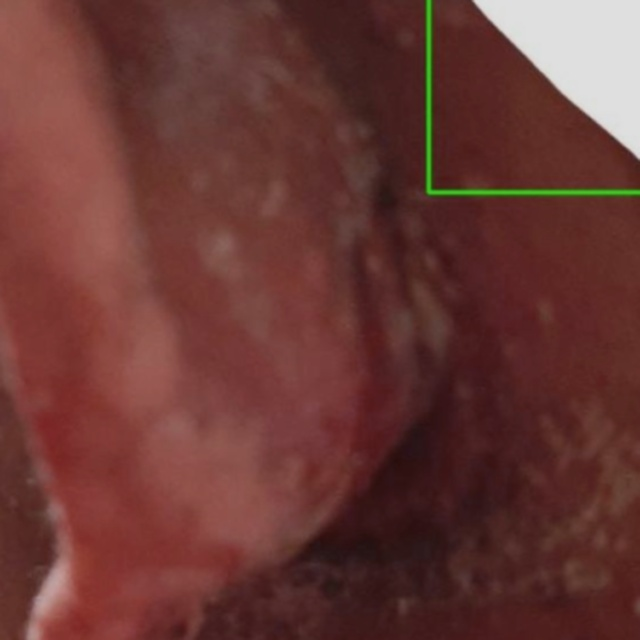Contact Dermatitis: (428, 0, 639, 192)
